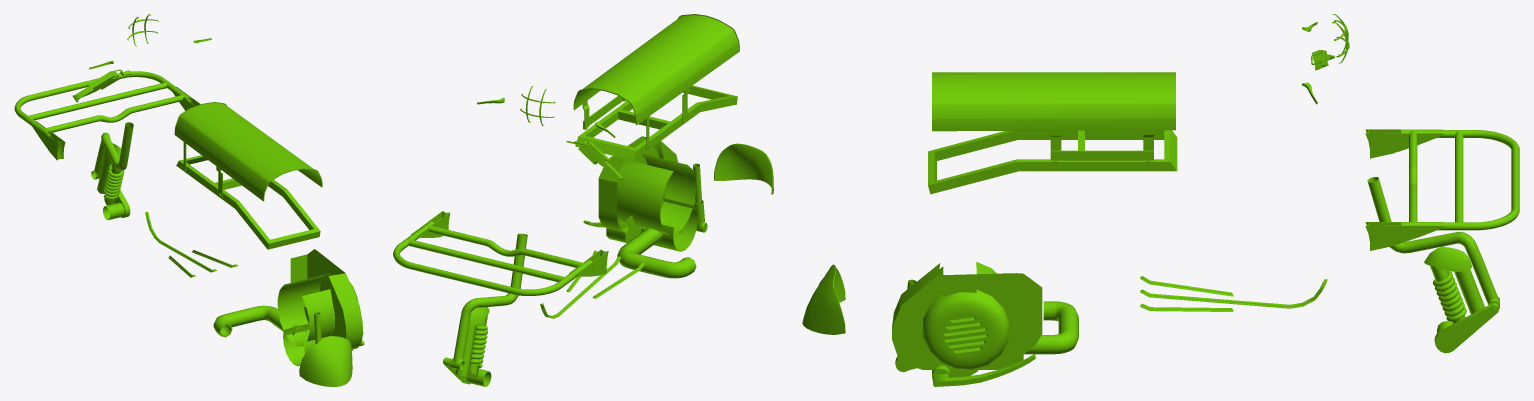
The model's file is AM2_Vesper3_2.fbx.
3 renders of one model, left to right at view 1: azimuth 30°, elevation 25°; view 2: azimuth 150°, elevation 25°; view 3: azimuth 270°, elevation 25°, orthographic. The views are drawn at different scales.
Parts seen in each view (by area): view 1: seatFrame3_lp; view 2: seatFrame3_lp; view 3: seatFrame3_lp.
Part boxes in pixels (box(x1,y1,x2,y2)): seatFrame3_lp: box(14, 14, 364, 386); seatFrame3_lp: box(393, 14, 773, 386); seatFrame3_lp: box(802, 14, 1519, 386).
Size of the model in its own units: 47.5 by 77.17 by 149.
